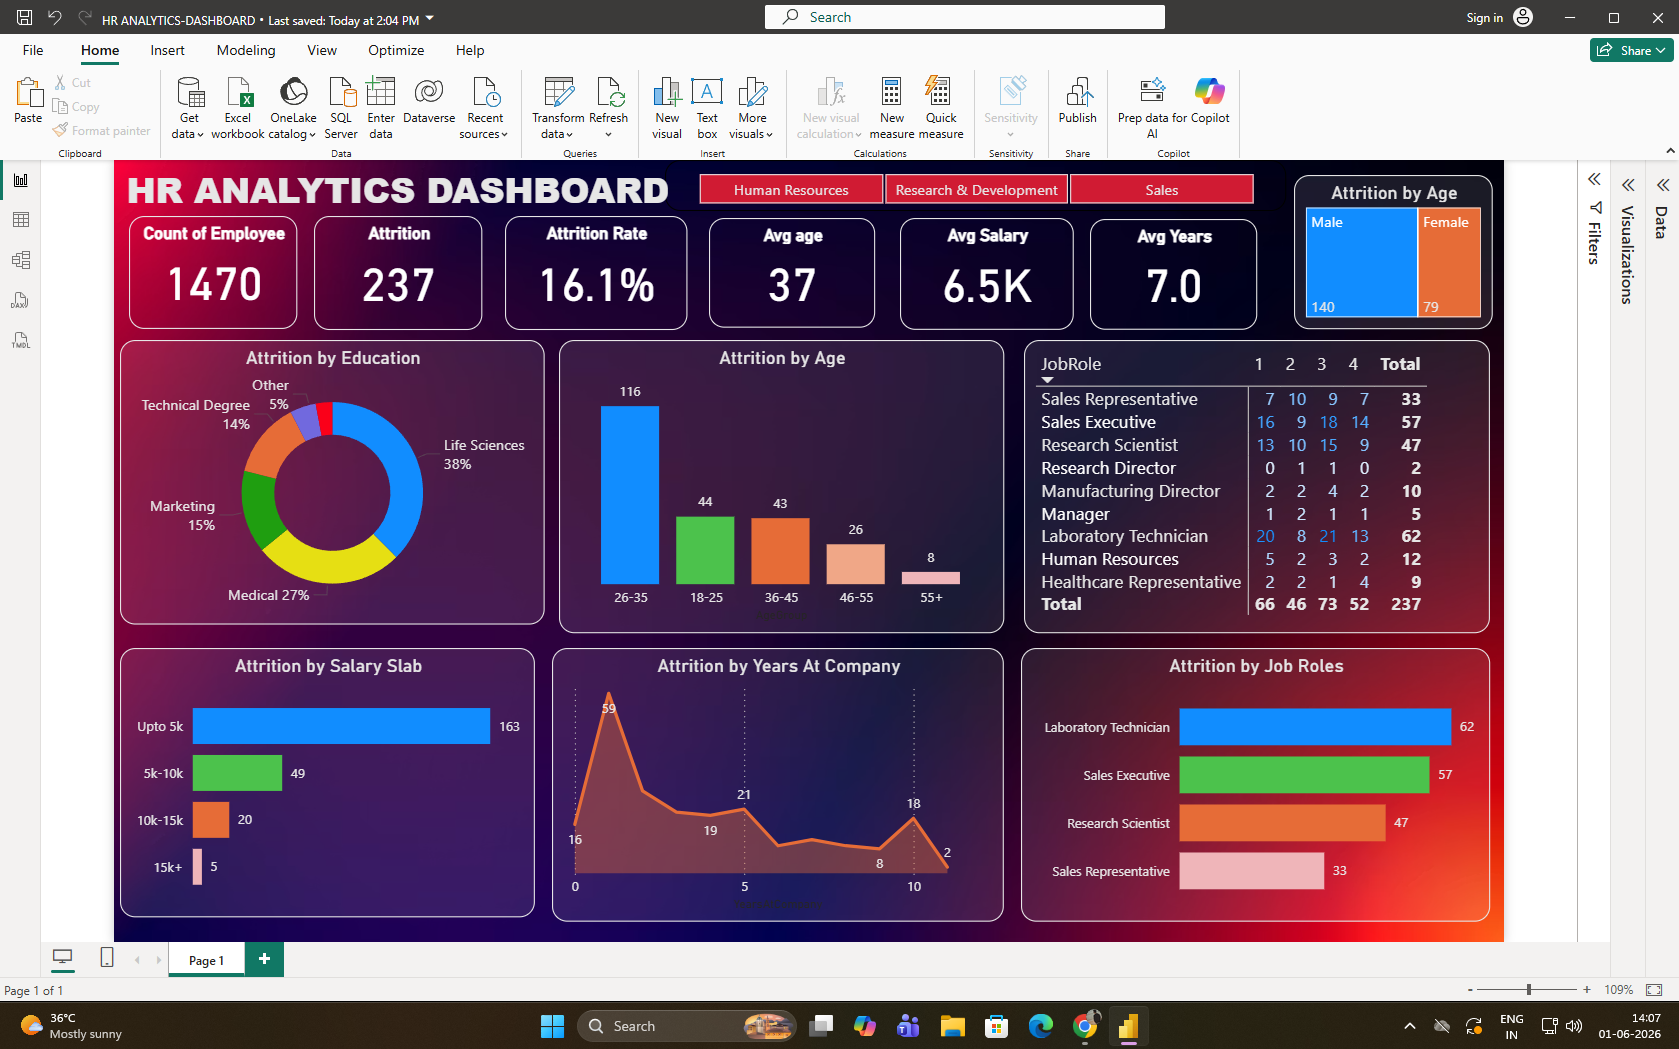

The page's visual inventory and layout, read from the dashboard file:
{"tool":"powerbi","page":{"name":"Page 1","canvas":[1280,720],"ordinal":0},"visuals":[{"type":"cardVisual","title":"Count of Employee","fields":{"Data":["HR_Analytics.Employee Count Text"]},"box":[13.4,51.4,155.4,103.9],"z":0},{"type":"donutChart","title":"Attrition by Education","fields":{"Category":["HR_Analytics.EducationField"],"Y":["Sum(HR_Analytics.AttritionCount)"]},"box":[5.1,165.7,391,262.4],"z":1000},{"type":"columnChart","title":"Attrition by Age","fields":{"Category":["HR_Analytics.AgeGroup"],"Y":["Sum(HR_Analytics.AttritionCount)"]},"box":[409.8,165.8,409.8,269.8],"z":2000},{"type":"pivotTable","fields":{"Rows":["HR_Analytics.JobRole"],"Columns":["HR_Analytics.JobSatisfaction"],"Values":["Sum(HR_Analytics.AttritionCount)"]},"box":[838,165.8,429.1,269.8],"z":3000},{"type":"barChart","title":"Attrition by Salary Slab","fields":{"Category":["HR_Analytics.SalarySlab"],"Y":["Sum(HR_Analytics.AttritionCount)"]},"box":[5.5,449.4,382.2,247.7],"z":4000},{"type":"barChart","title":"Attrition by Job Roles","fields":{"Category":["HR_Analytics.JobRole"],"Y":["Sum(HR_Analytics.AttritionCount)"]},"box":[835.2,449.4,431.9,252.3],"z":5000},{"type":"areaChart","title":"Attrition by Years At Company","fields":{"Category":["HR_Analytics.YearsAtCompany"],"Y":["Sum(HR_Analytics.AttritionCount)"]},"box":[403.3,449.4,416.2,252.3],"z":6000},{"type":"treemap","title":"Attrition by Age","fields":{"Values":["Sum(HR_Analytics.AttritionCount)"],"Group":["HR_Analytics.Gender"]},"box":[1086.6,13.4,183.2,142],"z":7000},{"type":"cardVisual","title":"Attrition","fields":{"Data":["Sum(HR_Analytics.AttritionCount)"]},"box":[184.2,51.4,155.4,105],"z":8000},{"type":"cardVisual","title":"Attrition Rate","fields":{"Data":["HR_Analytics.AttritionRate"]},"box":[360.1,51.4,167.7,105],"z":9000},{"type":"cardVisual","title":"Avg age","fields":{"Data":["Avg(HR_Analytics.Age)"]},"box":[547,53.4,160.2,101.3],"z":10000},{"type":"cardVisual","title":"Avg Salary","fields":{"Data":["Avg(HR_Analytics.MonthlyIncome)"]},"box":[723.8,53.4,160.2,103.1],"z":11000},{"type":"cardVisual","title":"Avg Years","fields":{"Data":["Avg(HR_Analytics.YearsAtCompany)"]},"box":[898.3,54.5,154.3,101.9],"z":12000},{"type":"slicer","fields":{"Values":["HR_Analytics.Department"]},"box":[507.3,0,572.1,47.3],"z":13000},{"type":"textbox","box":[6.2,0,553.6,64.8],"z":14000}]}

Visuals, with their boxes on the page's 1280x720 design canvas (x1, y1, x2, y2). These are canvas units, not pixel positions in the 1679x1049 screenshot, which may show the page scaled, cropped or inside an application window:
"Count of Employee" cardVisual: BBox(13, 51, 169, 155)
"Attrition by Education" donutChart: BBox(5, 166, 396, 428)
"Attrition by Age" columnChart: BBox(410, 166, 820, 436)
pivotTable - HR_Analytics.JobRole x HR_Analytics.JobSatisfaction: BBox(838, 166, 1267, 436)
"Attrition by Salary Slab" barChart: BBox(6, 449, 388, 697)
"Attrition by Job Roles" barChart: BBox(835, 449, 1267, 702)
"Attrition by Years At Company" areaChart: BBox(403, 449, 820, 702)
"Attrition by Age" treemap: BBox(1087, 13, 1270, 155)
"Attrition" cardVisual: BBox(184, 51, 340, 156)
"Attrition Rate" cardVisual: BBox(360, 51, 528, 156)
"Avg age" cardVisual: BBox(547, 53, 707, 155)
"Avg Salary" cardVisual: BBox(724, 53, 884, 156)
"Avg Years" cardVisual: BBox(898, 54, 1053, 156)
slicer - HR_Analytics.Department: BBox(507, 0, 1079, 47)
textbox: BBox(6, 0, 560, 65)
